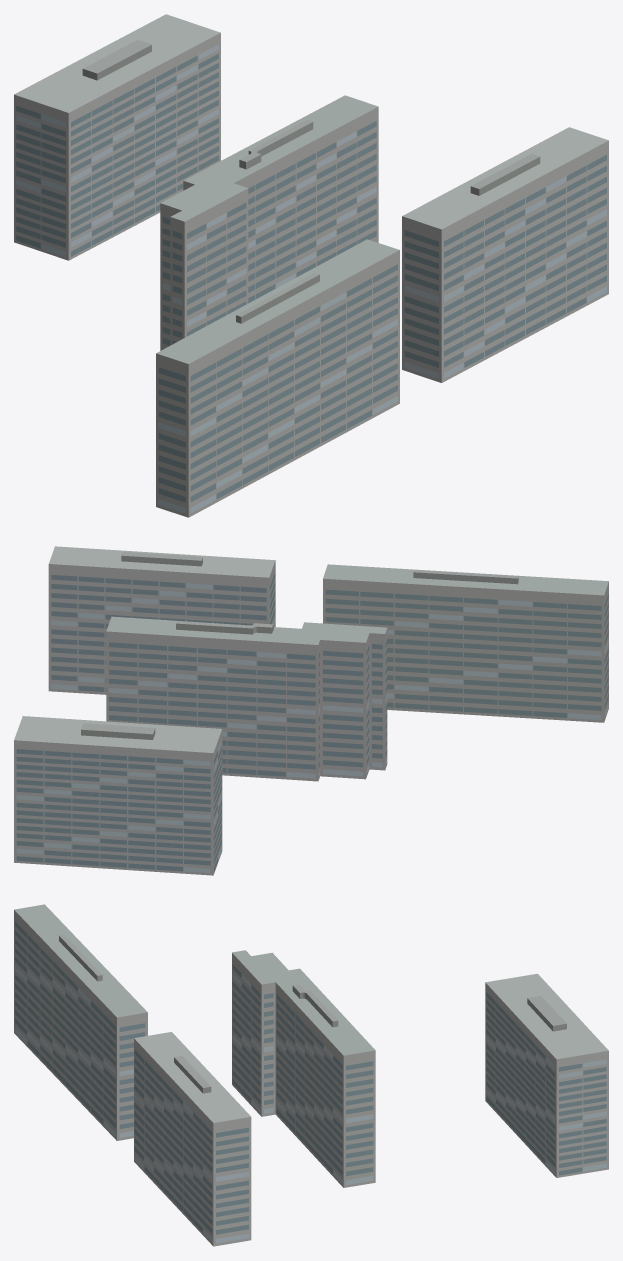
File: apt-a10024799.glb
The picture shows the model from 3 angles, top to bottom: view 1: azimuth 30°, elevation 25°; view 2: azimuth 150°, elevation 25°; view 3: azimuth 270°, elevation 25°; orthographic projection. The views are drawn at different scales.
Visible parts, largest first — view 1: apt-a10024799; view 2: apt-a10024799; view 3: apt-a10024799.
Boxes of the visible parts, x1=… form: apt-a10024799: x1=14, y1=14, x2=608, y2=517; apt-a10024799: x1=14, y1=546, x2=608, y2=875; apt-a10024799: x1=14, y1=904, x2=608, y2=1246.
Bounding box in the file's own units: 162 × 47.81 × 186.
